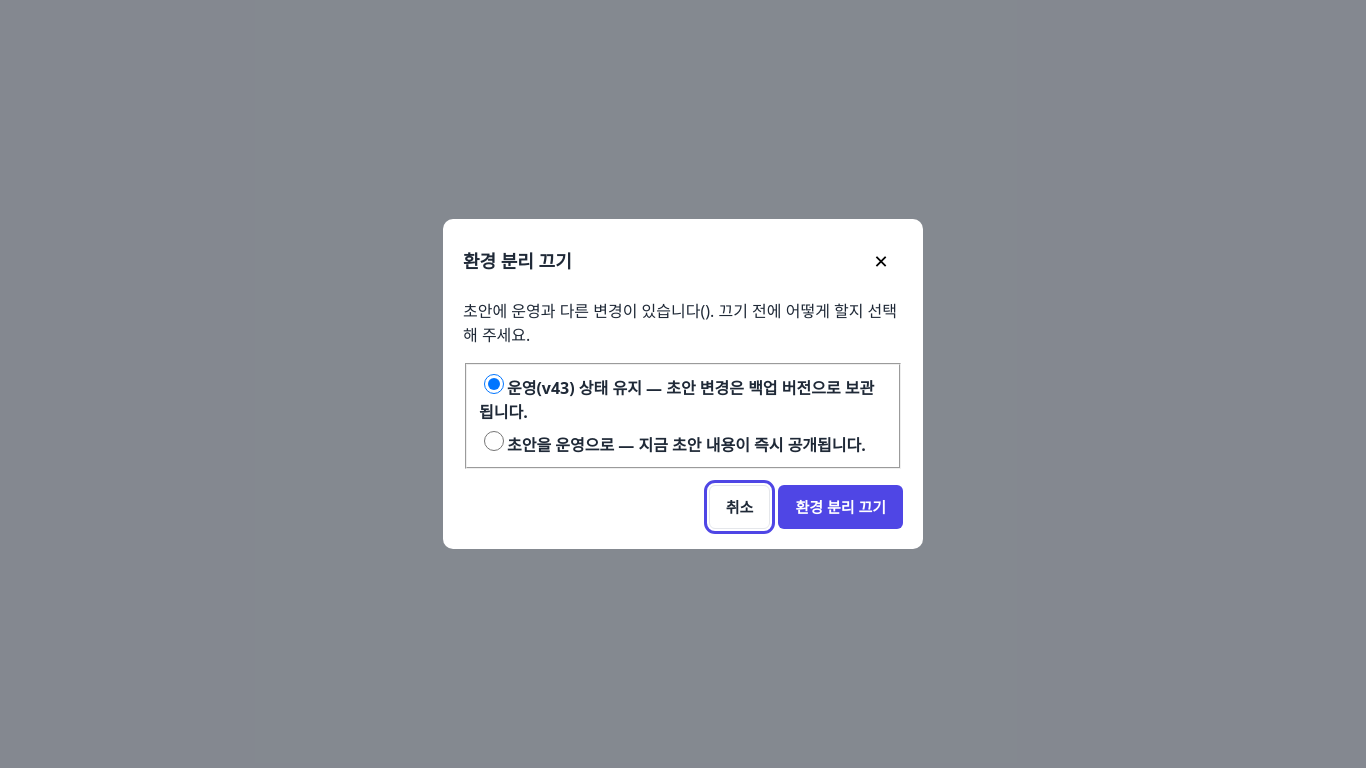
Test: EnvironmentDisableDialog › 차단 게이트 ∧ 초안≠운영(N40-3) › 확정이 409 ENV_GATE_NOT_PASSED면 alert 배너를 띄우고 "운영 유지"로 되돌린 뒤 미리보기를 다시 불러온다
This screenshot has width=1366, height=768.
Click the radio button labelled "초안을 운영으로 — 지금 초안 내용이 즉시 공개됩니다." at (494, 441), box [484,431,504,451]
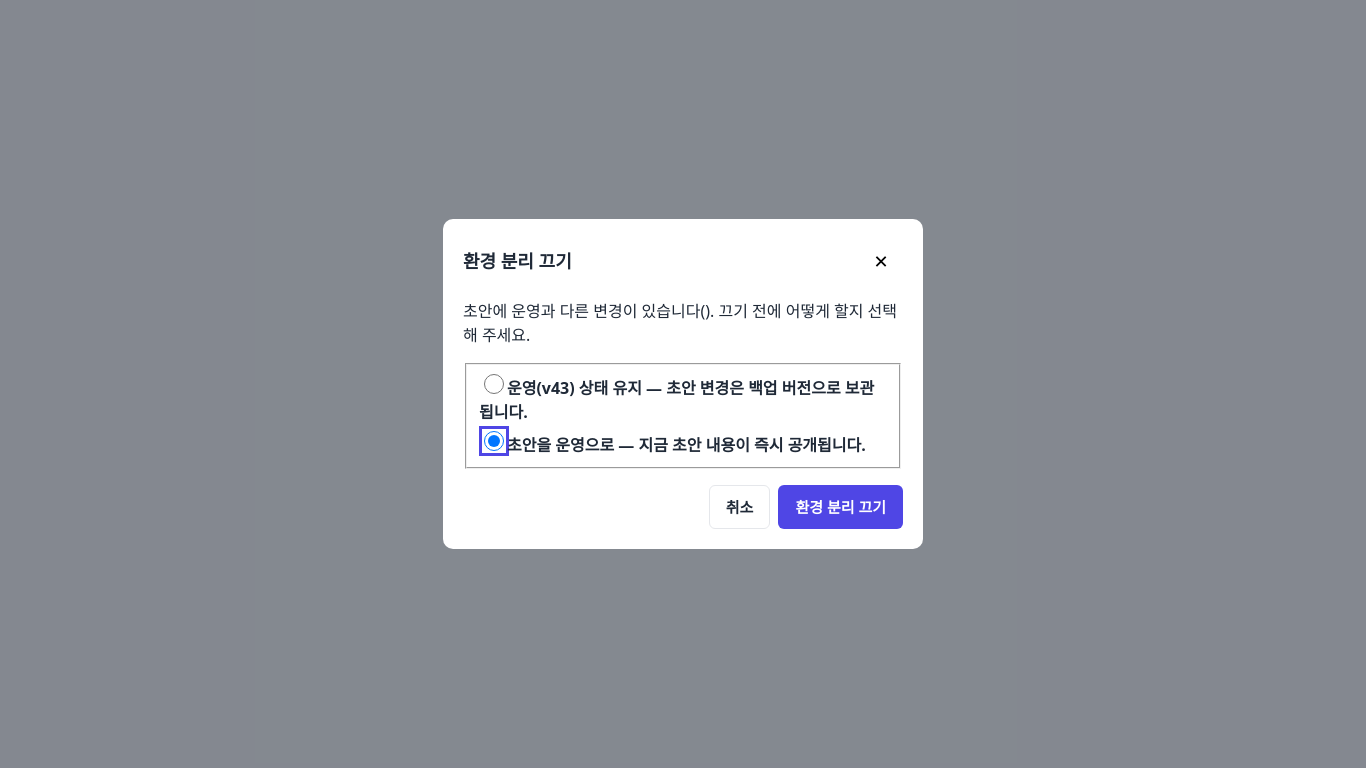
Click the button "환경 분리 끄기" at (841, 507), box [778,485,903,529]
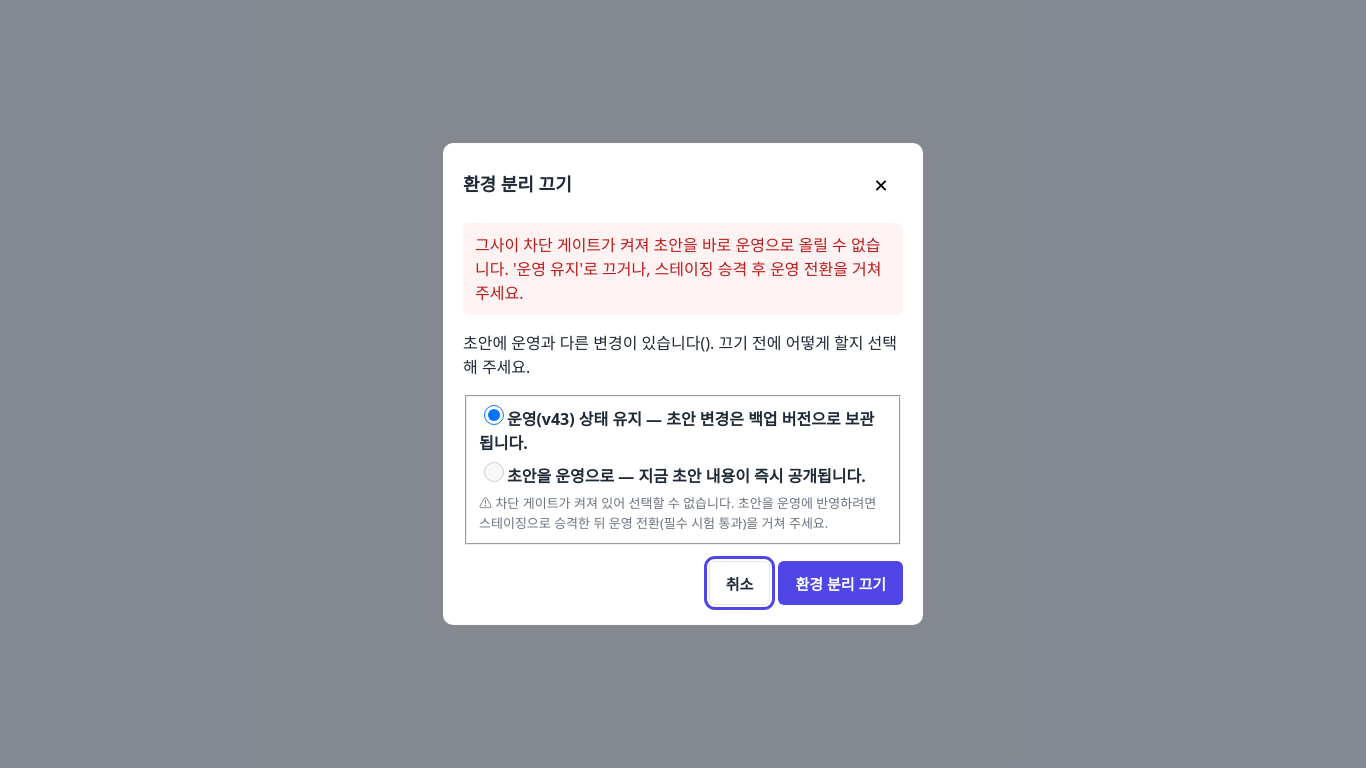
Now the message shows "그사이 차단 게이트가 켜져 초안을 바로 운영으로 올릴 수 없습니다.", box [475,234,882,304]
Now the radio button labelled "운영(v43) 상태 유지 — 초안 변경은 백업 버전으로 보관됩니다." is checked, box [484,405,504,425]
Now the radio button labelled "초안을 운영으로 — 지금 초안 내용이 즉시 공개됩니다." is disabled, box [484,462,504,482]
